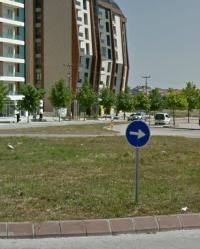turnright: (125, 121, 150, 146)
